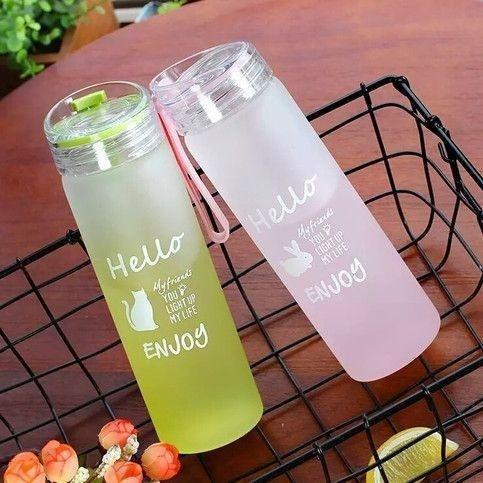gym bottle: (150, 39, 440, 380), (44, 81, 263, 452)
